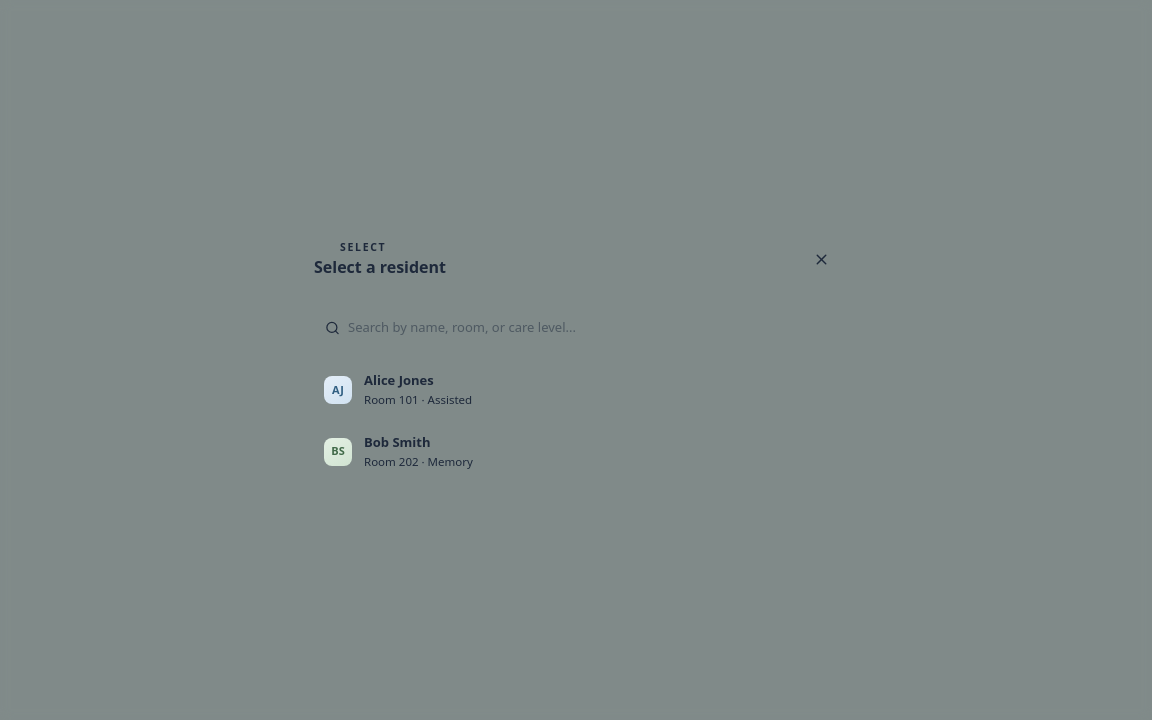
Test: ResidentPickerModal › filters by alice
expect the text "Alice Jones" is shown: met, box [364,371,434,389]
Type "alice" into the field named "Search residents".
click(484, 328); type("alice")  # box [314,309,654,347]
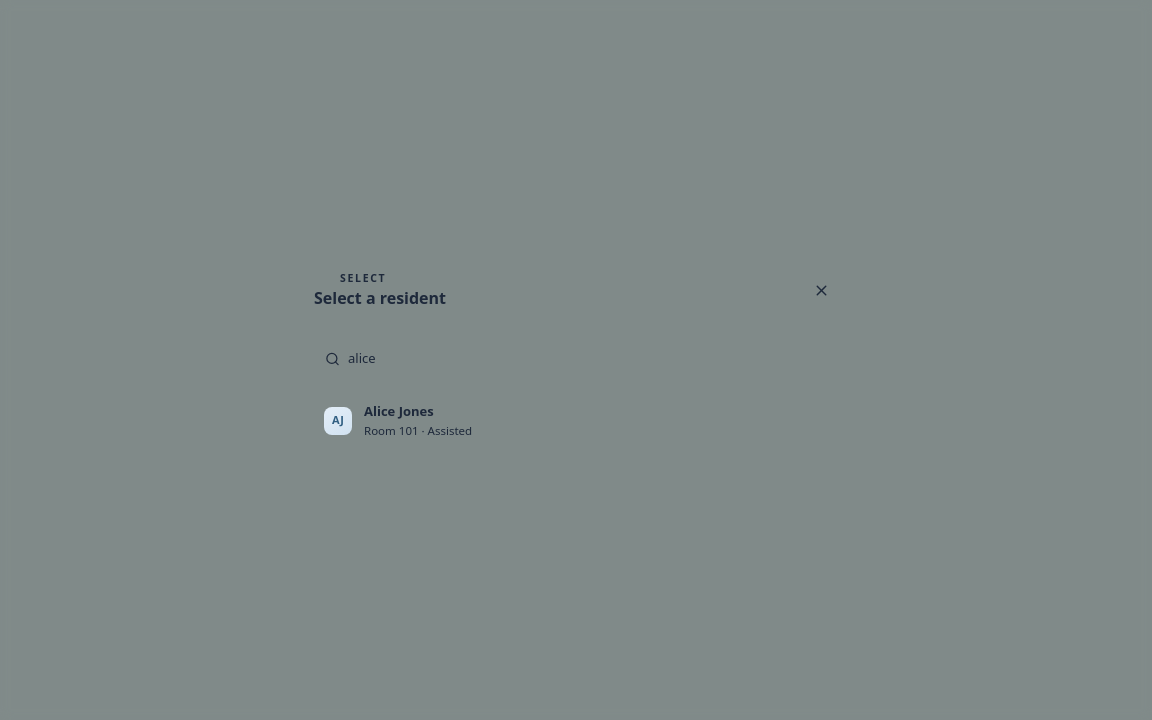
expect the text "Alice Jones" is shown: met, box [364,402,434,420]
expect the number of buttons "Room" is 1: met, box [306,390,846,452]
